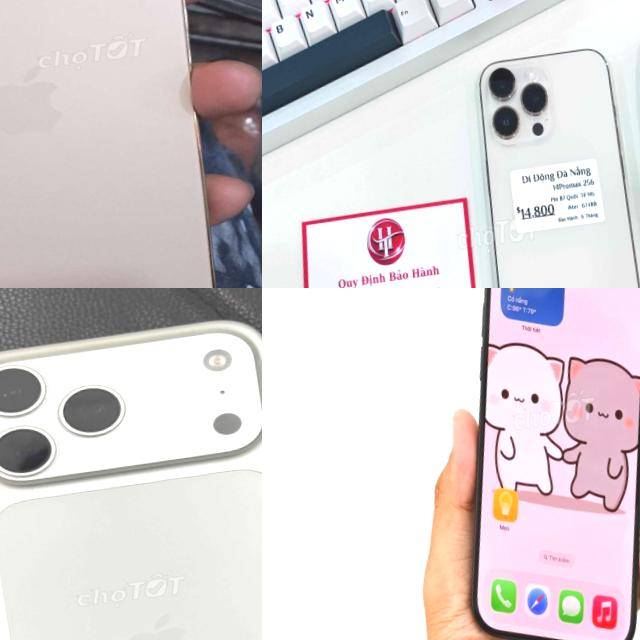gen_12_13: (0, 0, 231, 288)
gen_14: (459, 35, 640, 288)
gen_15: (417, 288, 640, 640)
gen_17: (0, 290, 262, 640)
